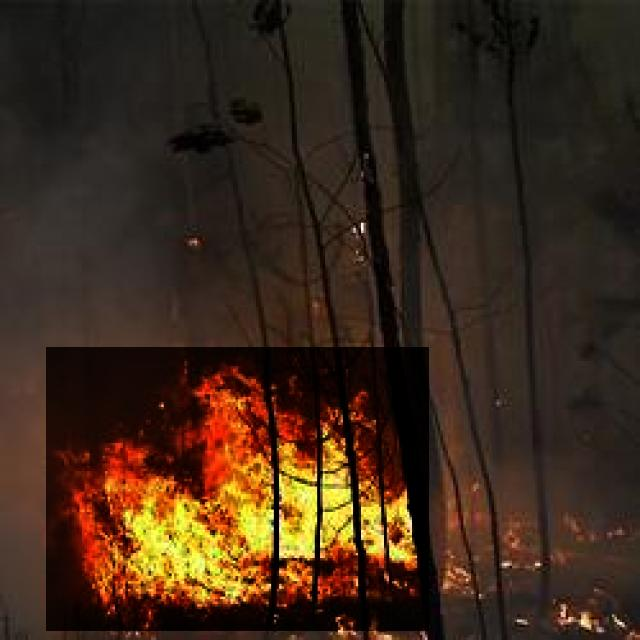Fire: (46, 347, 429, 631)
